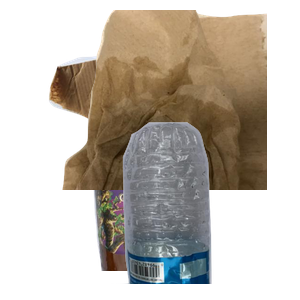cardboard: (46, 40, 226, 179)
glass: (88, 120, 252, 300)
plastic: (111, 120, 300, 300)
trash: (60, 10, 300, 190)
